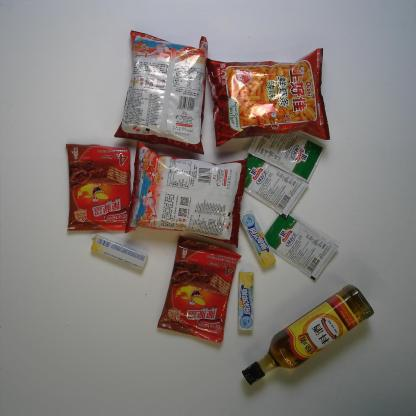Candy: (240, 210, 276, 268), (91, 234, 148, 270), (238, 269, 254, 331)
Dessert: (157, 236, 242, 344), (66, 143, 136, 232)
Puffed Food: (124, 140, 248, 249), (205, 47, 331, 148), (114, 30, 208, 155)
Seasoner: (241, 284, 375, 386), (244, 113, 326, 183), (239, 142, 309, 218), (264, 213, 340, 281)
